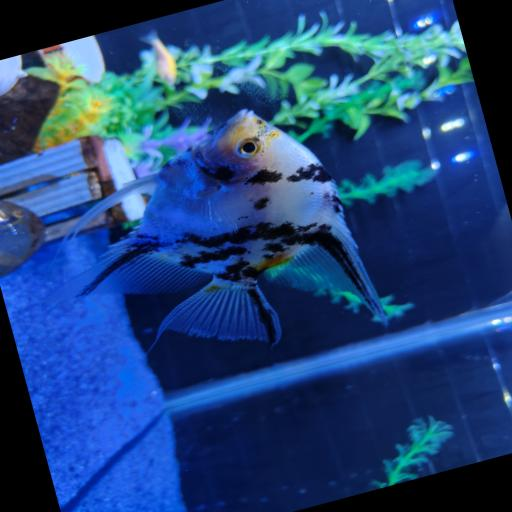Fish: (44, 109, 386, 343), (139, 30, 176, 84), (0, 55, 26, 94)
